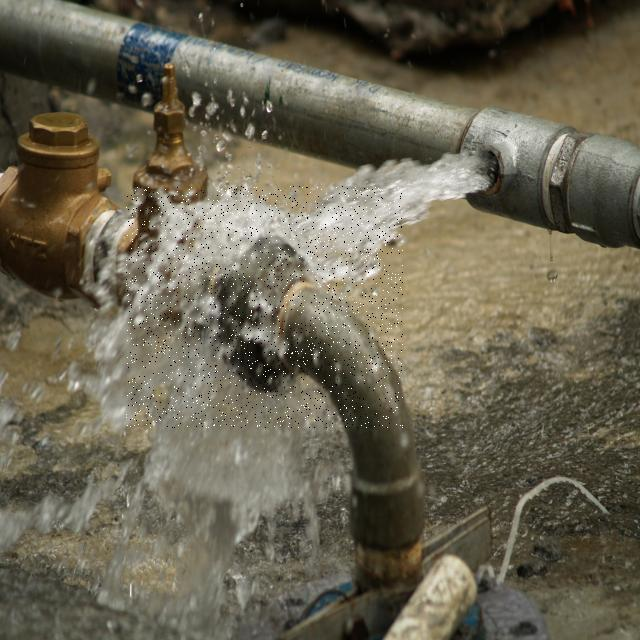pipe burst: (118, 138, 510, 619)
